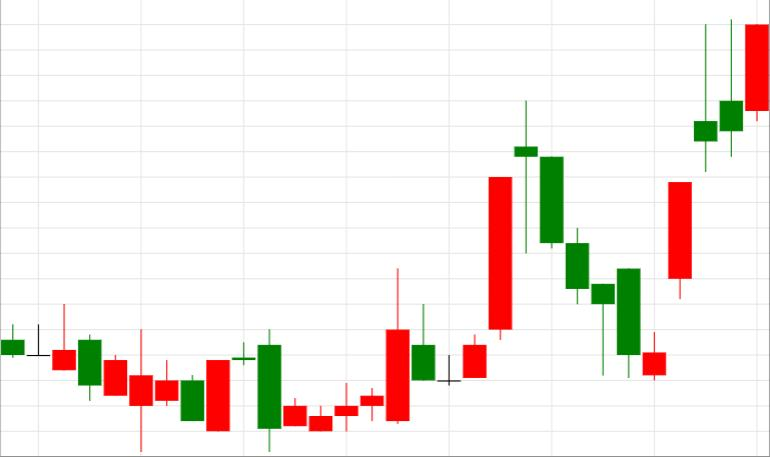evening_star_fall: (309, 101, 563, 431)
